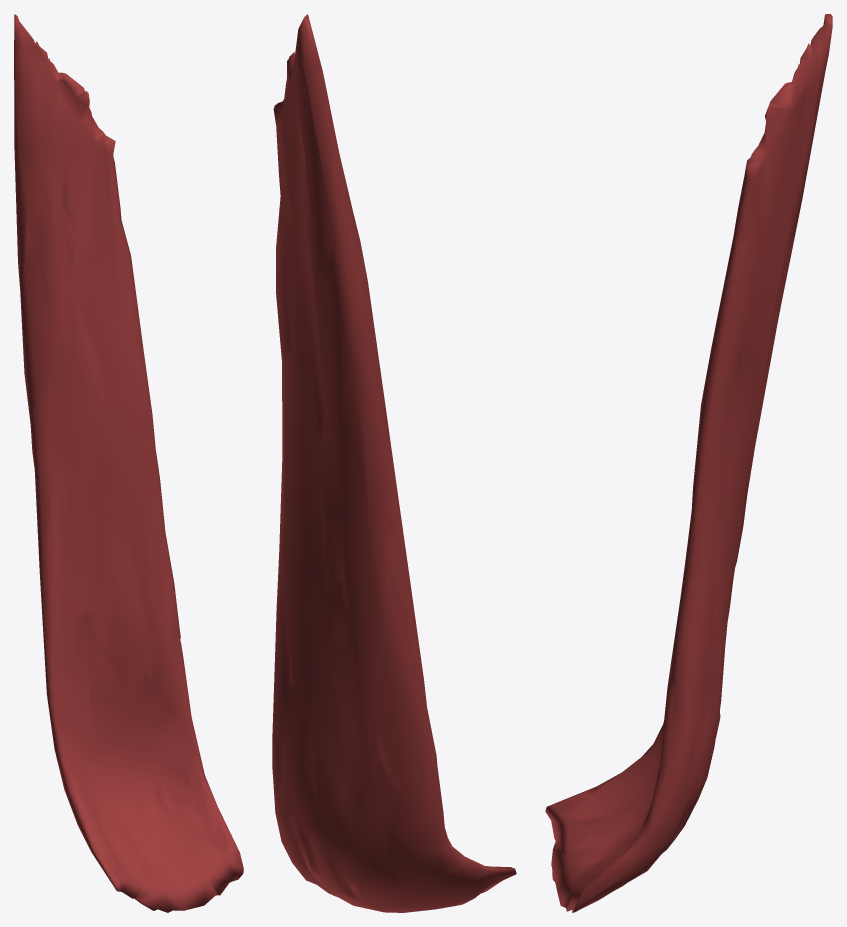
Rendered from sternothyroid-muscle-r.glb.
The picture shows the model from 3 angles, left to right: view 1: azimuth 30°, elevation 25°; view 2: azimuth 150°, elevation 25°; view 3: azimuth 270°, elevation 25°; orthographic projection. The views are drawn at different scales.
Parts seen in each view (by area): view 1: Sternothyroid muscle.r; view 2: Sternothyroid muscle.r; view 3: Sternothyroid muscle.r.
Boxes of the visible parts, <box> form: Sternothyroid muscle.r: <box>14,14,243,912</box>; Sternothyroid muscle.r: <box>272,14,516,912</box>; Sternothyroid muscle.r: <box>545,14,832,912</box>.
Bounding box in the file's own units: 0.0183 × 0.0988 × 0.0299.
